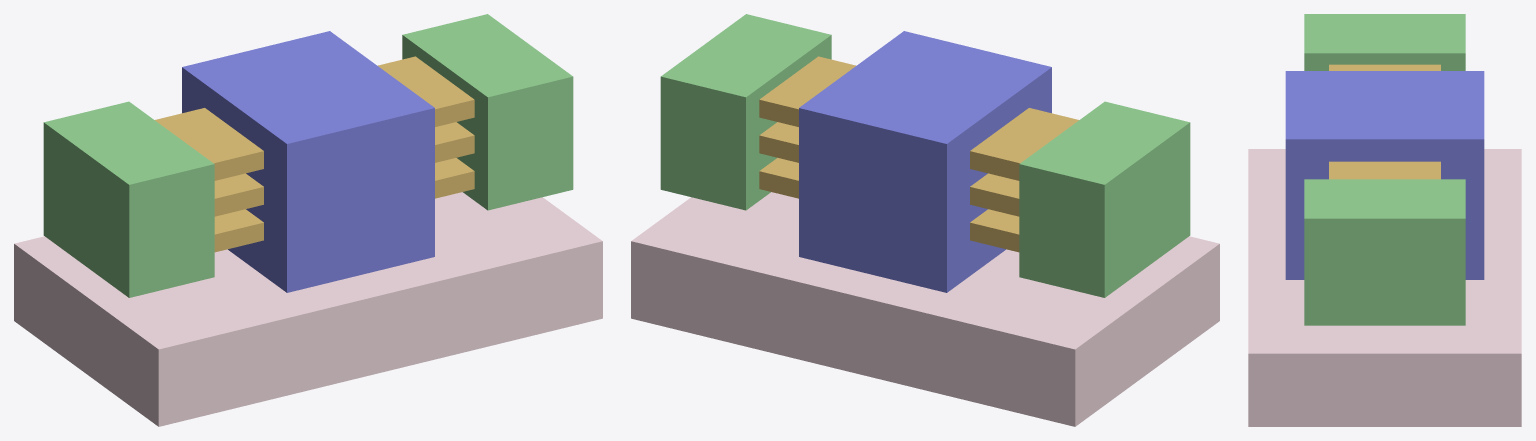
File: simp_ns.glb
3 renders of one model, left to right at view 1: azimuth 30°, elevation 25°; view 2: azimuth 150°, elevation 25°; view 3: azimuth 270°, elevation 25°, orthographic. The views are drawn at different scales.
Parts seen in each view (by area): view 1: sub, gate, src0, drn0, ch2, ch1, ch0; view 2: sub, gate, src0, drn0, ch2, ch1, ch0; view 3: sub, drn0, gate, src0, ch2.
Part boxes in pixels (bbox=[...]): sub: bbox=[14, 192, 602, 426]; gate: bbox=[182, 31, 434, 292]; src0: bbox=[43, 101, 214, 297]; drn0: bbox=[402, 14, 573, 210]; ch2: bbox=[155, 56, 474, 180]; ch1: bbox=[214, 122, 474, 216]; ch0: bbox=[214, 158, 474, 252]; sub: bbox=[631, 192, 1219, 426]; gate: bbox=[799, 31, 1051, 292]; src0: bbox=[1019, 101, 1190, 297]; drn0: bbox=[660, 14, 831, 210]; ch2: bbox=[759, 56, 1078, 180]; ch1: bbox=[759, 122, 1019, 216]; ch0: bbox=[759, 158, 1019, 252]; sub: bbox=[1248, 149, 1521, 426]; drn0: bbox=[1304, 179, 1465, 325]; gate: bbox=[1285, 71, 1484, 279]; src0: bbox=[1304, 14, 1465, 70]; ch2: bbox=[1329, 64, 1440, 179].
Bounding box in the file's own units: 156 × 78 × 88.
